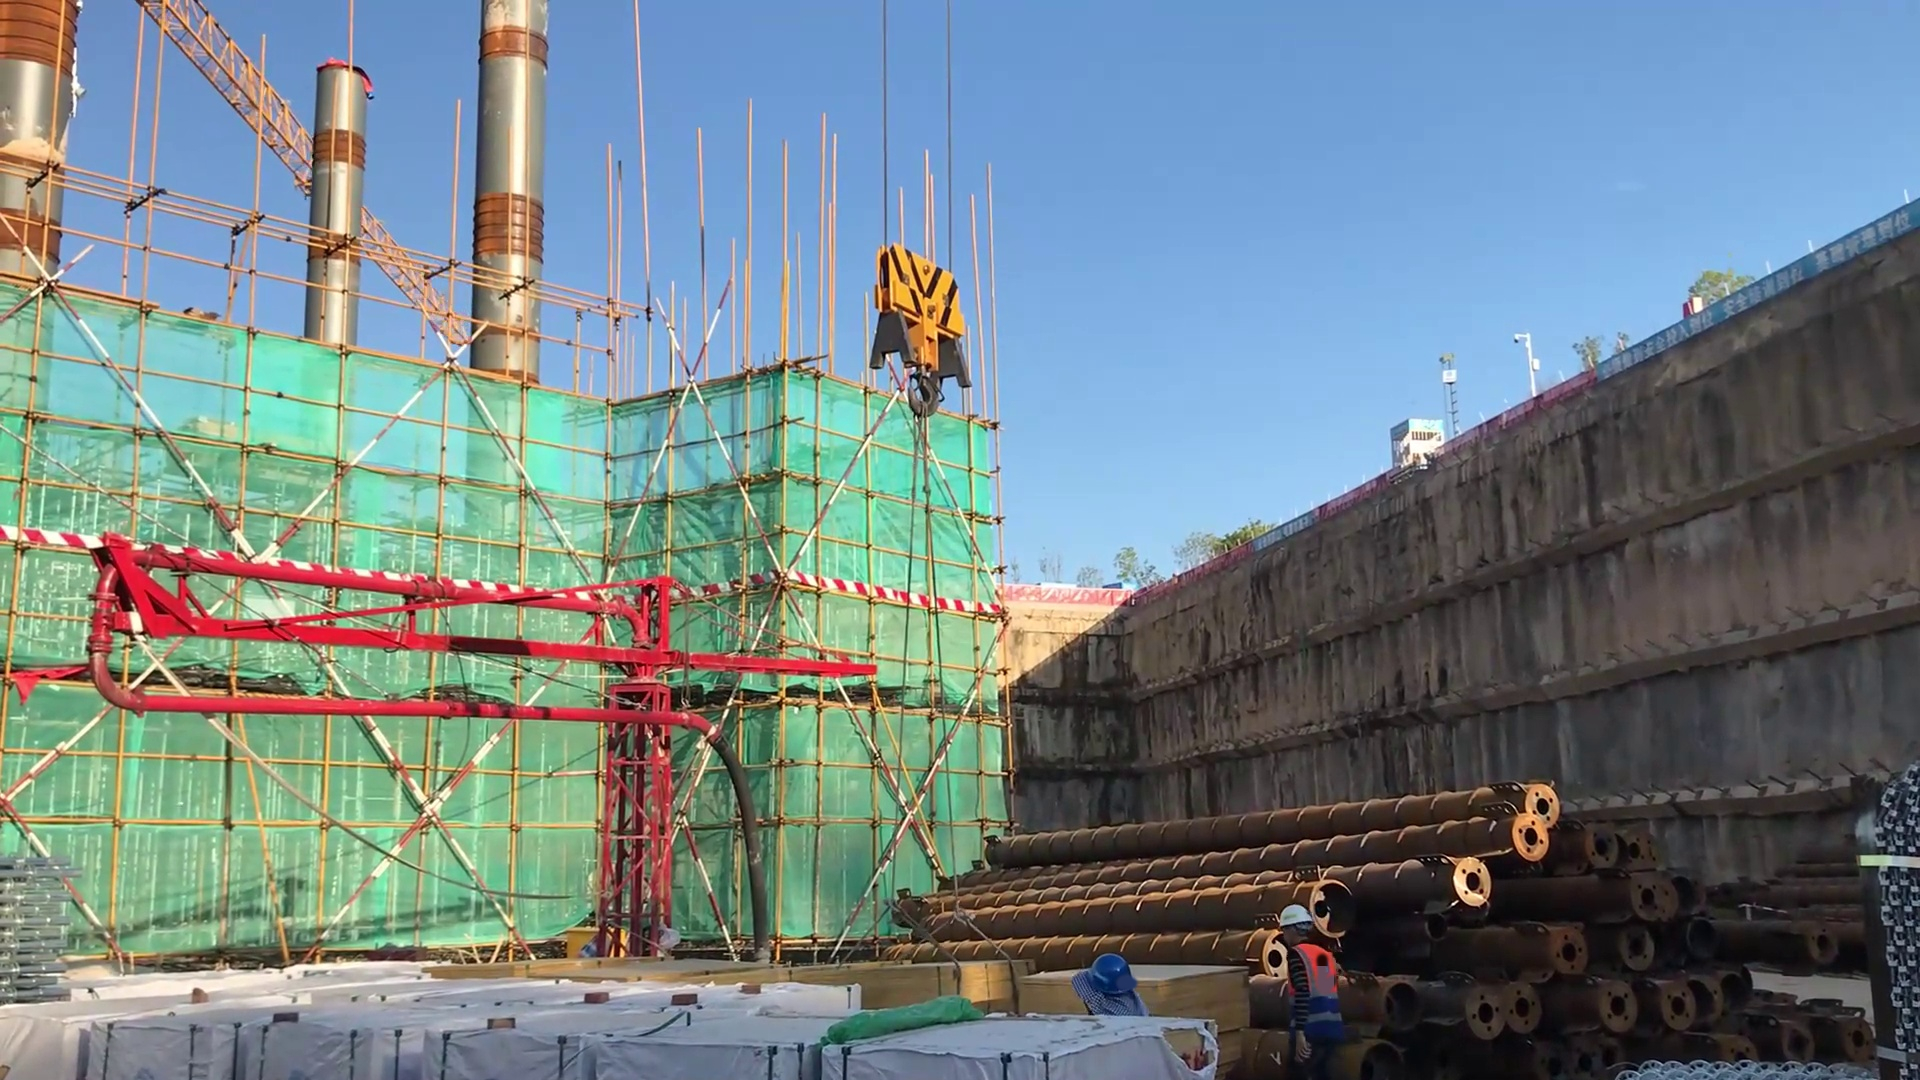board: (1024, 961, 1255, 1059), (778, 949, 1029, 1008)
ebox: (563, 921, 627, 959)
helmet: (1077, 944, 1143, 1002), (1266, 909, 1322, 949)
hook: (868, 226, 975, 442)
person: (1264, 908, 1367, 1080)
scaffold: (1847, 753, 1920, 1067), (1, 846, 86, 1001)
slogan: (1588, 187, 1920, 384), (1244, 501, 1316, 549)
vest: (1285, 948, 1343, 1053)
